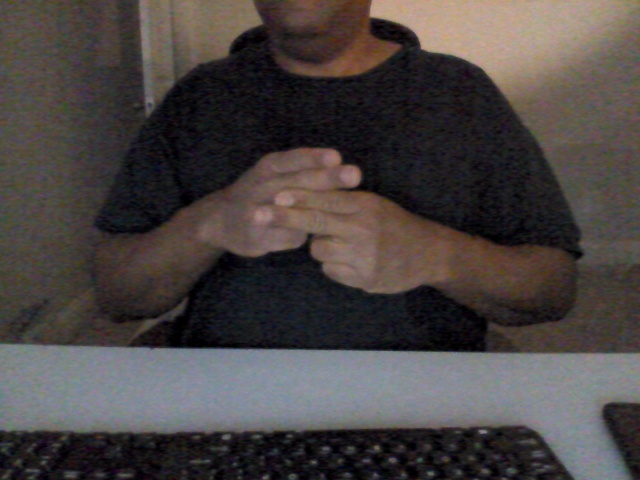name: (196, 138, 445, 301)
